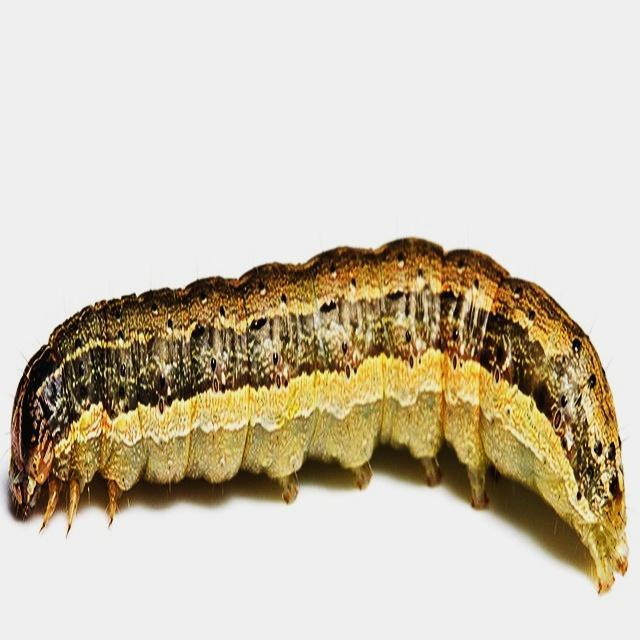Plaga: (2, 227, 640, 597)
